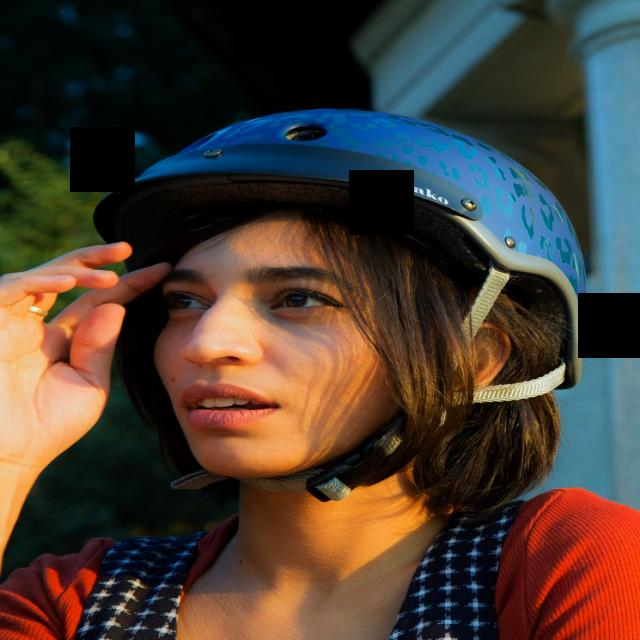Helmet: (95, 108, 592, 486)
